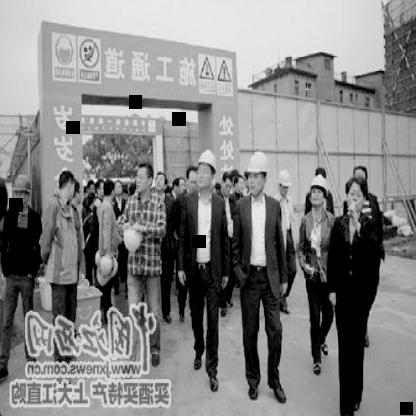head: (344, 170, 366, 214), (56, 169, 77, 209), (134, 160, 152, 196), (186, 164, 200, 198), (102, 178, 118, 204), (154, 168, 170, 194), (221, 171, 233, 199)
helmet: (246, 151, 270, 194), (196, 147, 218, 193), (310, 170, 332, 216), (13, 171, 33, 217), (277, 164, 294, 200)
